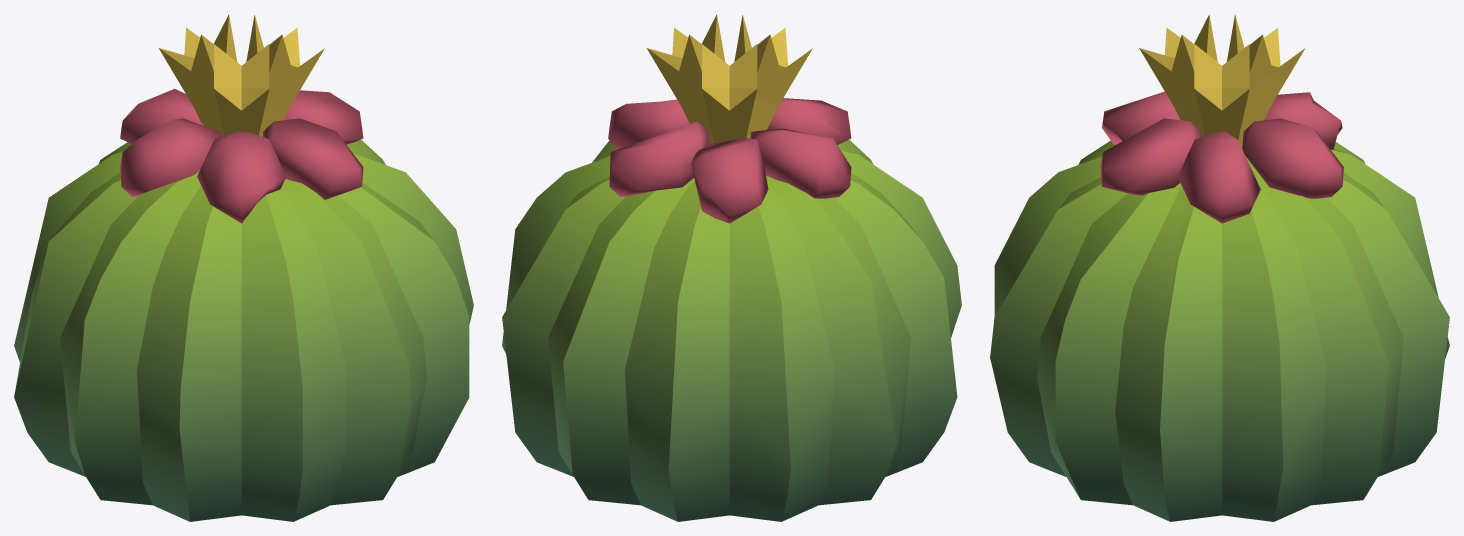
3 renders of one model, left to right at view 1: azimuth 30°, elevation 25°; view 2: azimuth 150°, elevation 25°; view 3: azimuth 270°, elevation 25°, orthographic.
Parts seen in each view (by area): view 1: LOD 3_16096745429454471203_4f8908b5be8aa20408ffdc0ad114008d; view 2: LOD 3_16096745429454471203_4f8908b5be8aa20408ffdc0ad114008d; view 3: LOD 3_16096745429454471203_4f8908b5be8aa20408ffdc0ad114008d.
Boxes of the visible parts, x1,y1,x2,y2 form: LOD 3_16096745429454471203_4f8908b5be8aa20408ffdc0ad114008d: (14, 14, 473, 521); LOD 3_16096745429454471203_4f8908b5be8aa20408ffdc0ad114008d: (502, 14, 961, 521); LOD 3_16096745429454471203_4f8908b5be8aa20408ffdc0ad114008d: (990, 14, 1449, 521).
Size of the model in its own units: 1.04 by 1.02 by 1.04.
